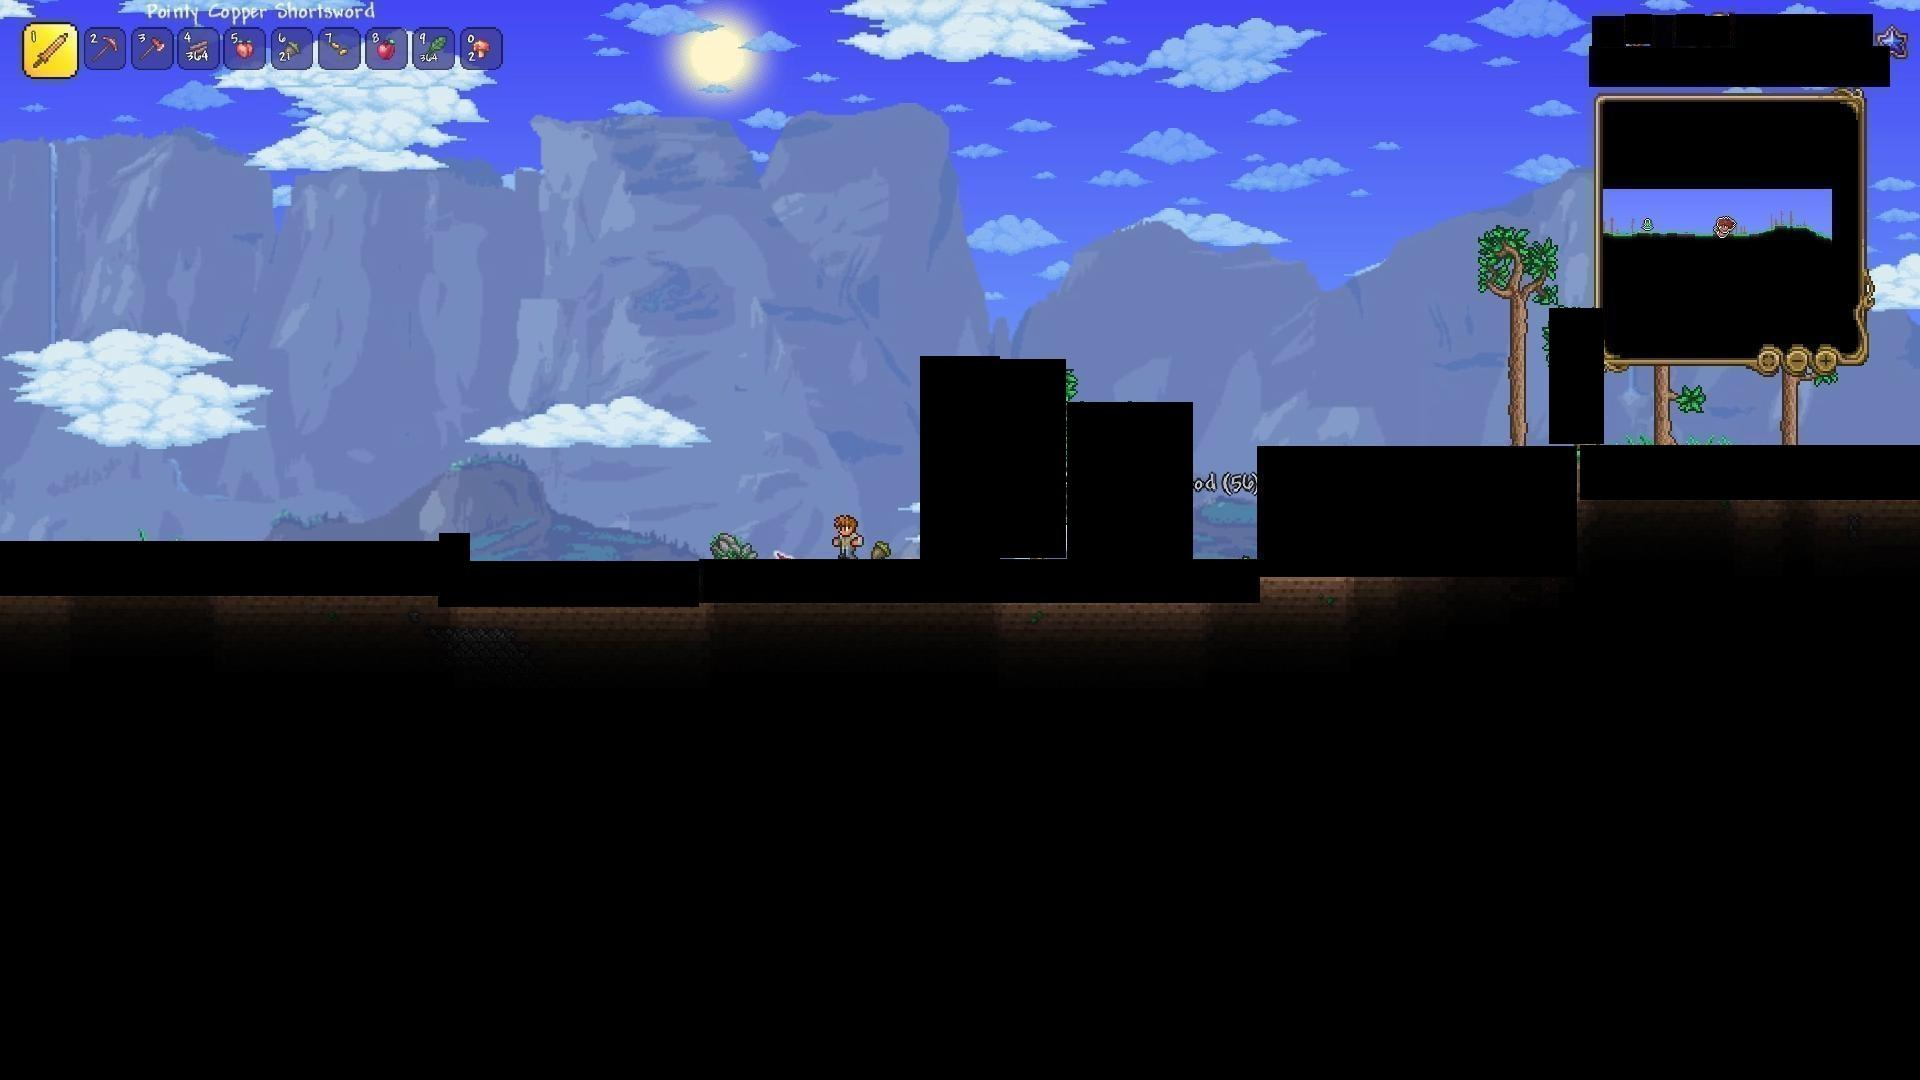tree: (1472, 222, 1549, 446), (1638, 364, 1702, 444)
